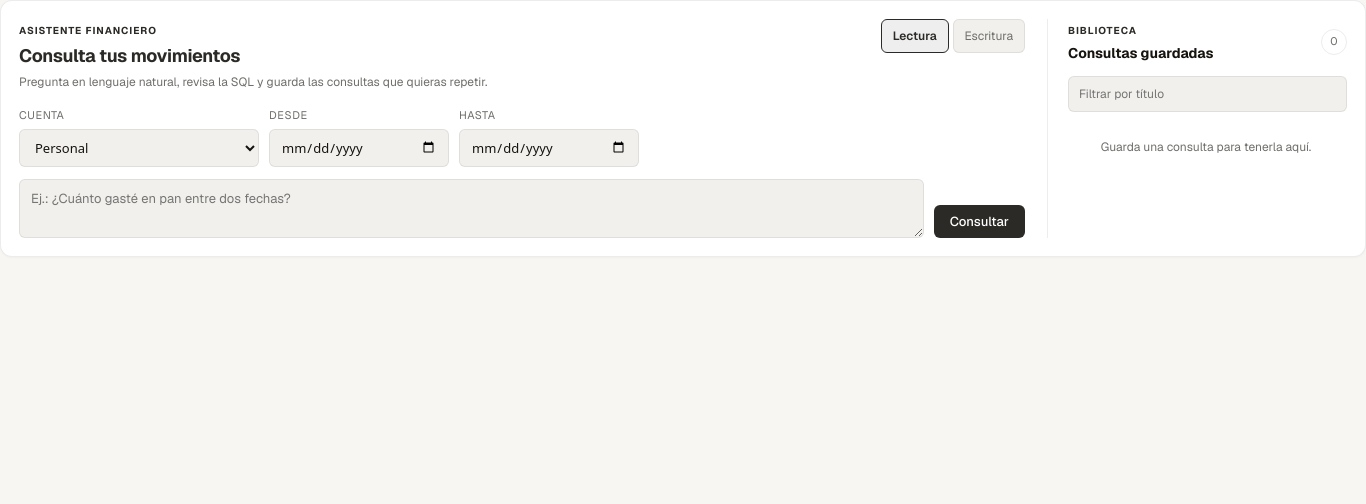
it: AssistantPanel › mantiene visibles las consultas si el agente alcanza el límite sin respuesta final
In the text box named "Petición para el asistente": (471, 208) 19,178 -> 924,238, type "Resume gastos"
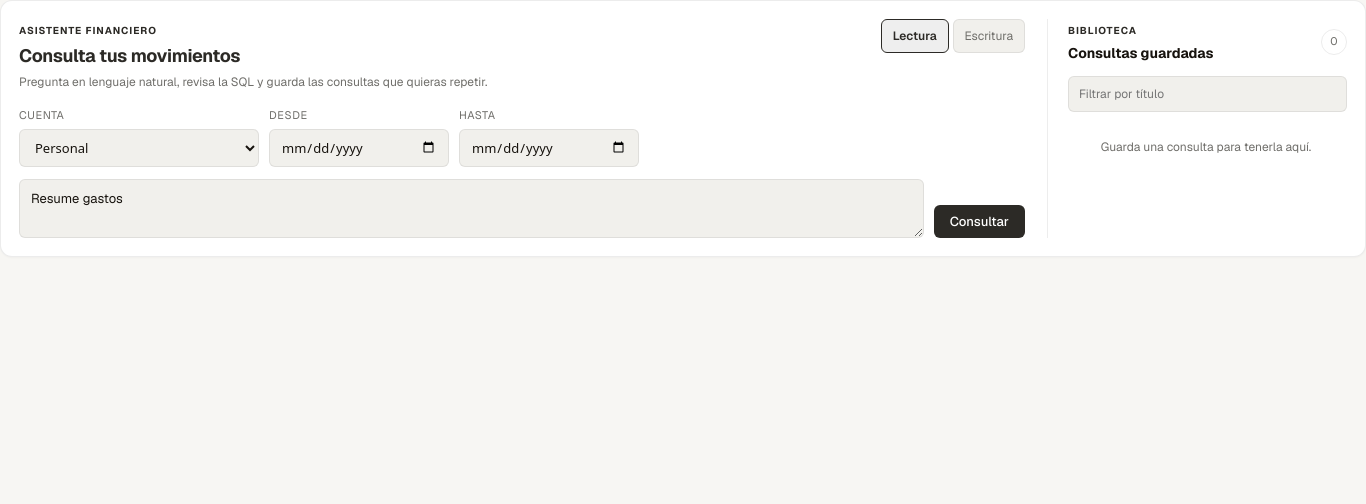
Click the button "Consultar": (979, 221) 934,204 -> 1025,238
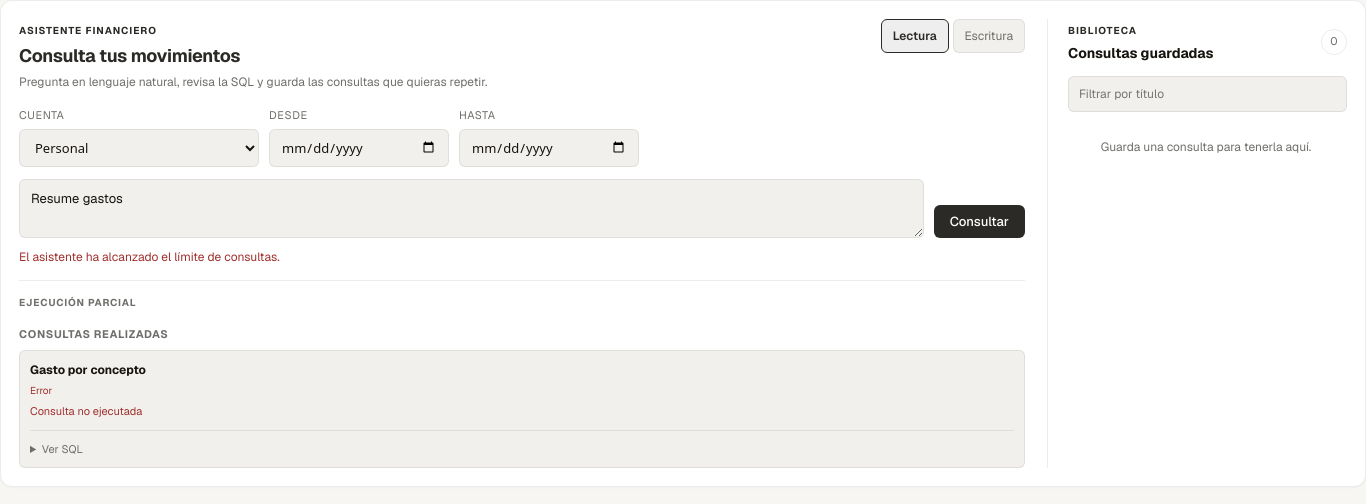
Now the text "Ejecución parcial" is shown, box 19,294 -> 136,310
Now the text "Gasto por concepto" is shown, box 30,361 -> 146,379
Now the text "Consulta no ejecutada" is shown, box 30,404 -> 142,418
